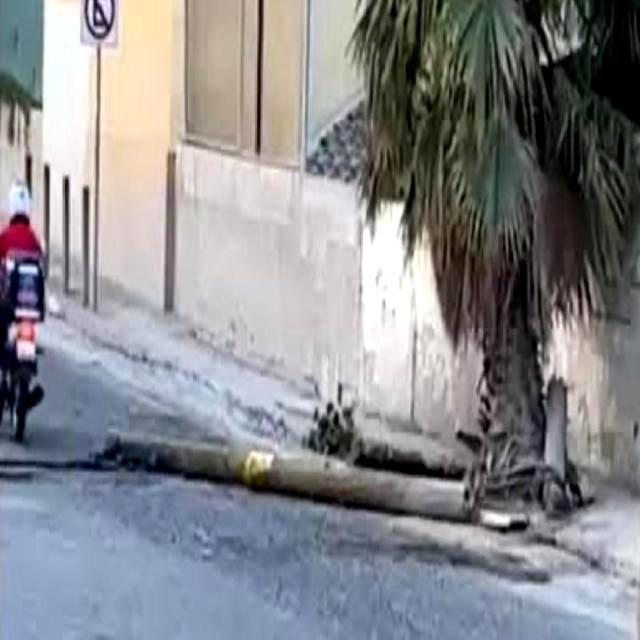Broken Pole: (106, 428, 475, 524)
